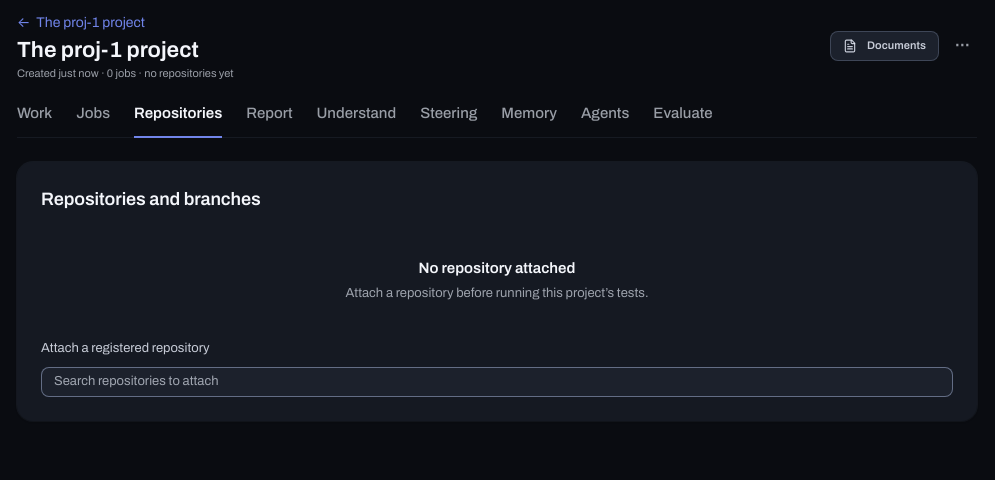
ProjectDesk — Repositories section (studio#207) › typing narrows the picker by name; a miss says so instead of offering nothing silently
Type "web" into the field with test id "project-repo-search" at x=497, y=382, box 41,367 -> 953,397
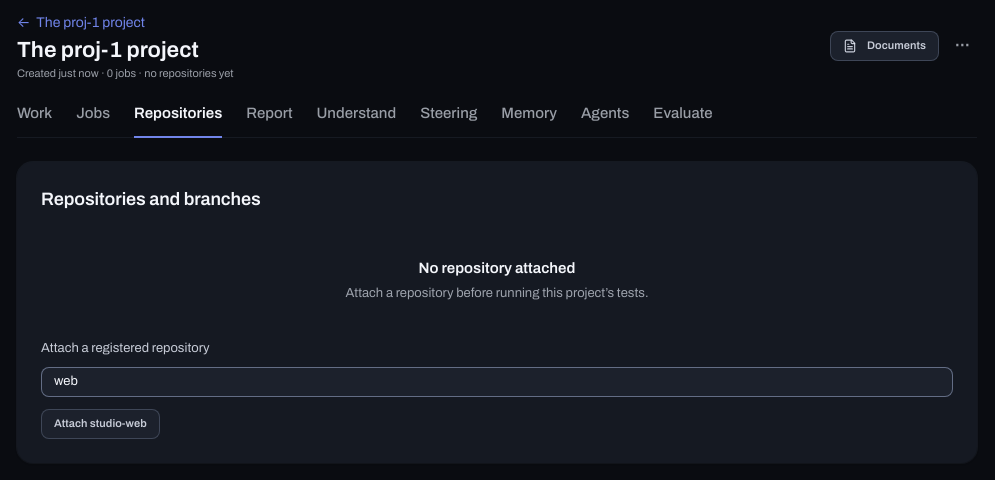
Result: the number of buttons with test id "project-repo-option" is 1 at 41,409 -> 160,439
Replace the text in the field with test id "project-repo-search" with "nope" at x=497, y=382, box 41,367 -> 953,397
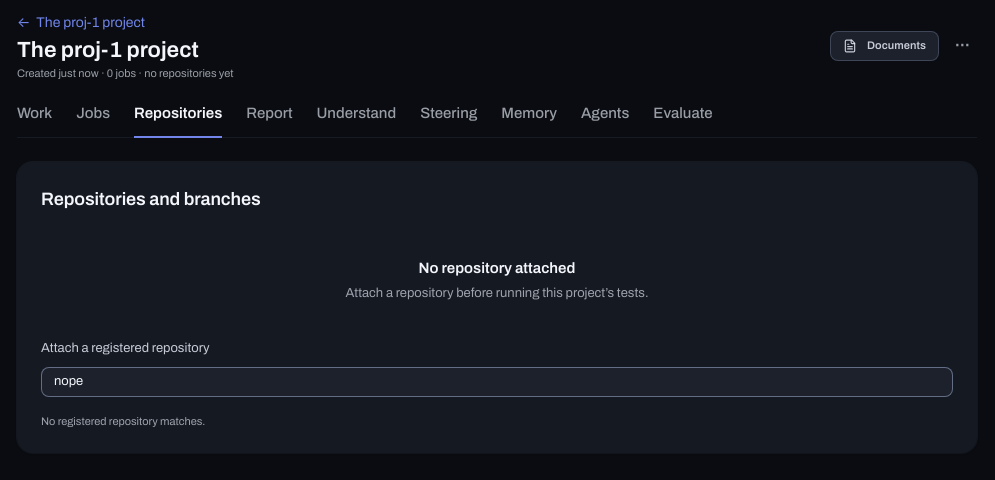
Result: the text with test id "project-repo-options-empty" shows "No registered repository matches" at 41,415 -> 205,427
